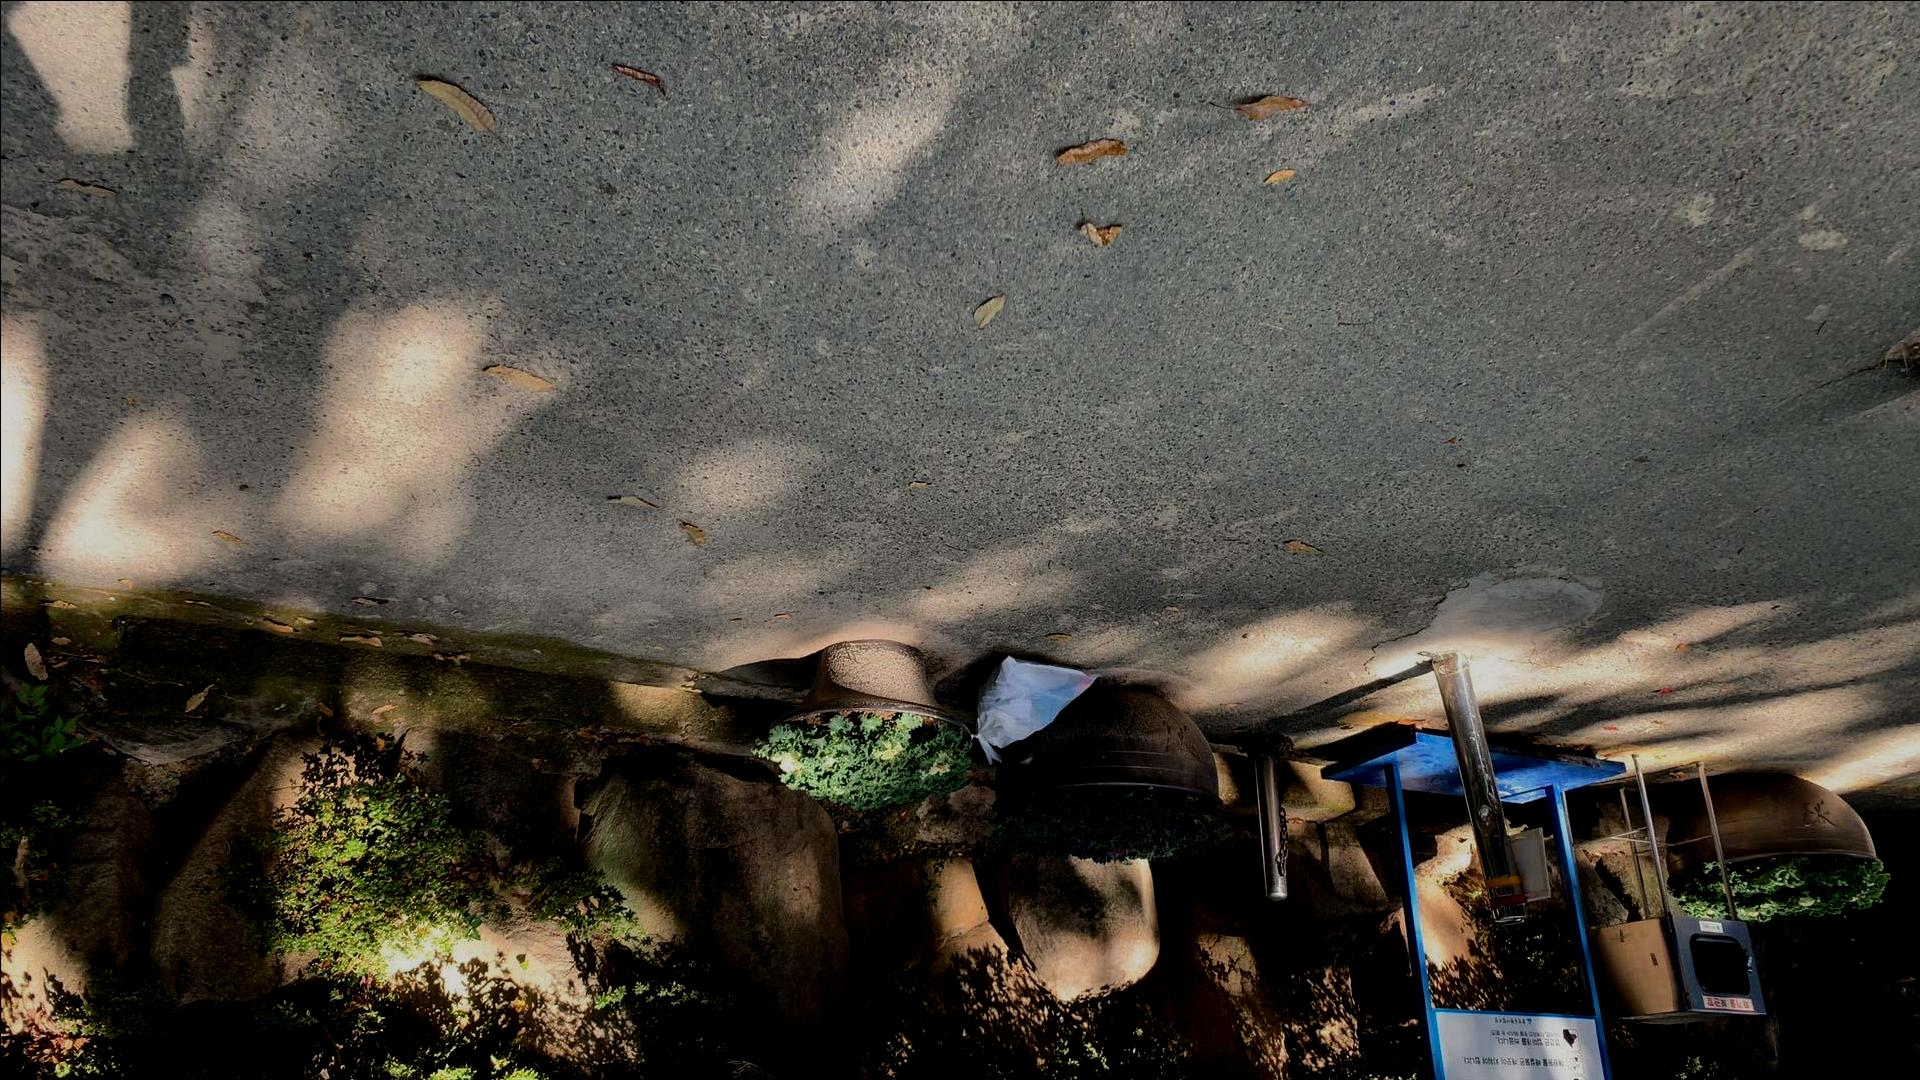white_bag: (956, 650, 1112, 767)
